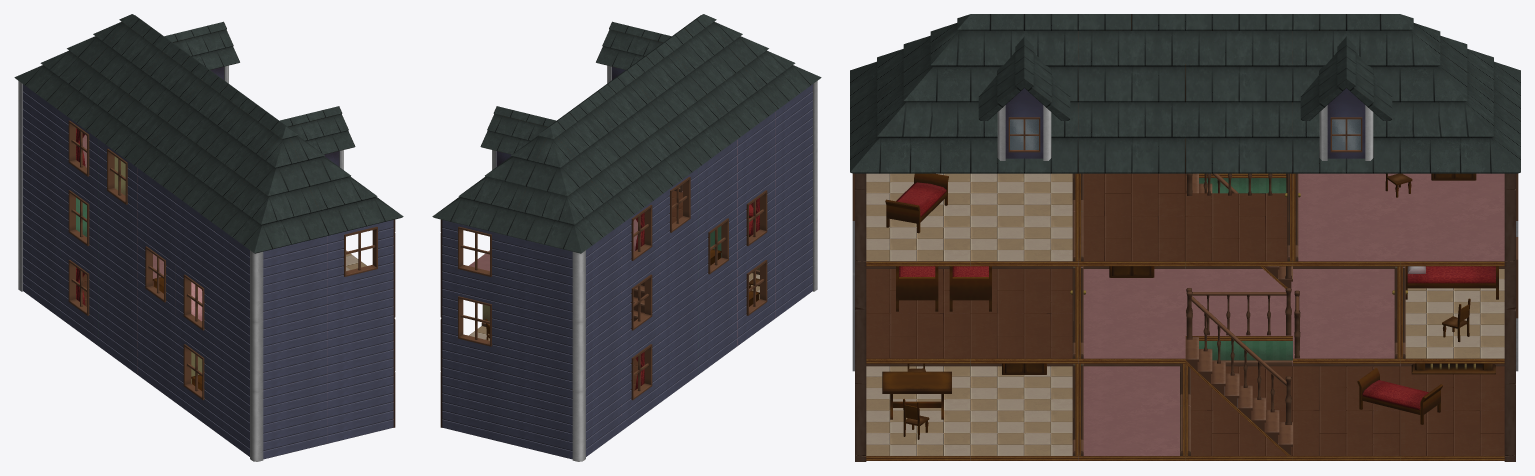
3 views of the same model, side by side, from view 1: azimuth 30°, elevation 25°; view 2: azimuth 150°, elevation 25°; view 3: azimuth 270°, elevation 25° (orthographic). The views are drawn at different scales.
Visible parts, largest first — view 1: Doll_house_wall03, Doll_house_wall06, Doll_house_wall39, Doll_house_roof11, Doll_house_roof06, Doll_house_roof08, Doll_house_roof09, Doll_house_roof07, Doll_house_wall04, Doll_house_wall21, Doll_house_roof02, Doll_house_wall41 (+22 smaller); view 2: Doll_house_wall24, Doll_house_wall09, Doll_house_wall35, Doll_house_roof12, Doll_house_roof07, Doll_house_roof09, Doll_house_roof06, Doll_house_roof08, Doll_house_wall07, Doll_house_roof10, Doll_house_wall25, Doll_house_wall20 (+22 smaller); view 3: Doll_house_roof03, Doll_house_roof04, Doll_house_roof02, Doll_house_roof10, Doll_house_roof01, Doll_house_roof05, Doll_house_roof_window, Doll_house_roof_window1, Doll_house_floor13, Doll_house_floor24, Doll_house_floor33, Doll_house_floor16 (+59 smaller).
Part boxes in pixels (x1=…): Doll_house_wall03: x1=214, y1=292, x2=327, y2=392; Doll_house_wall06: x1=214, y1=362, x2=327, y2=461; Doll_house_wall39: x1=214, y1=224, x2=327, y2=322; Doll_house_roof11: x1=211, y1=137, x2=328, y2=253; Doll_house_roof06: x1=57, y1=24, x2=163, y2=136; Doll_house_roof08: x1=134, y1=81, x2=240, y2=193; Doll_house_roof09: x1=173, y1=109, x2=278, y2=221; Doll_house_roof07: x1=96, y1=53, x2=201, y2=164; Doll_house_wall04: x1=327, y1=358, x2=393, y2=443; Doll_house_wall21: x1=327, y1=288, x2=393, y2=374; Doll_house_roof02: x1=289, y1=136, x2=403, y2=235; Doll_house_wall41: x1=327, y1=220, x2=393, y2=304; Doll_house_wall24: x1=508, y1=292, x2=621, y2=392; Doll_house_wall09: x1=508, y1=362, x2=621, y2=461; Doll_house_wall35: x1=508, y1=224, x2=621, y2=322; Doll_house_roof12: x1=507, y1=137, x2=624, y2=253; Doll_house_roof07: x1=595, y1=81, x2=701, y2=193; Doll_house_roof09: x1=672, y1=24, x2=778, y2=136; Doll_house_roof06: x1=557, y1=109, x2=662, y2=221; Doll_house_roof08: x1=634, y1=53, x2=739, y2=164; Doll_house_wall07: x1=442, y1=358, x2=508, y2=443; Doll_house_roof10: x1=432, y1=136, x2=546, y2=235; Doll_house_wall25: x1=442, y1=288, x2=508, y2=374; Doll_house_wall20: x1=442, y1=220, x2=508, y2=304; Doll_house_roof03: x1=1078, y1=31, x2=1185, y2=173; Doll_house_roof04: x1=1185, y1=31, x2=1292, y2=173; Doll_house_roof02: x1=850, y1=29, x2=970, y2=173; Doll_house_roof10: x1=1400, y1=29, x2=1520, y2=173; Doll_house_roof01: x1=970, y1=31, x2=1077, y2=173; Doll_house_roof05: x1=1293, y1=31, x2=1400, y2=173; Doll_house_roof_window: x1=978, y1=36, x2=1070, y2=160; Doll_house_roof_window1: x1=1300, y1=36, x2=1392, y2=160; Doll_house_floor13: x1=1293, y1=410, x2=1400, y2=460; Doll_house_floor24: x1=866, y1=313, x2=970, y2=363; Doll_house_floor33: x1=1400, y1=216, x2=1504, y2=266; Doll_house_floor16: x1=1078, y1=313, x2=1185, y2=363.
Size of the model in its own units: 0.0225 by 0.0413 by 0.0625.
6 materials, 6 textured.
